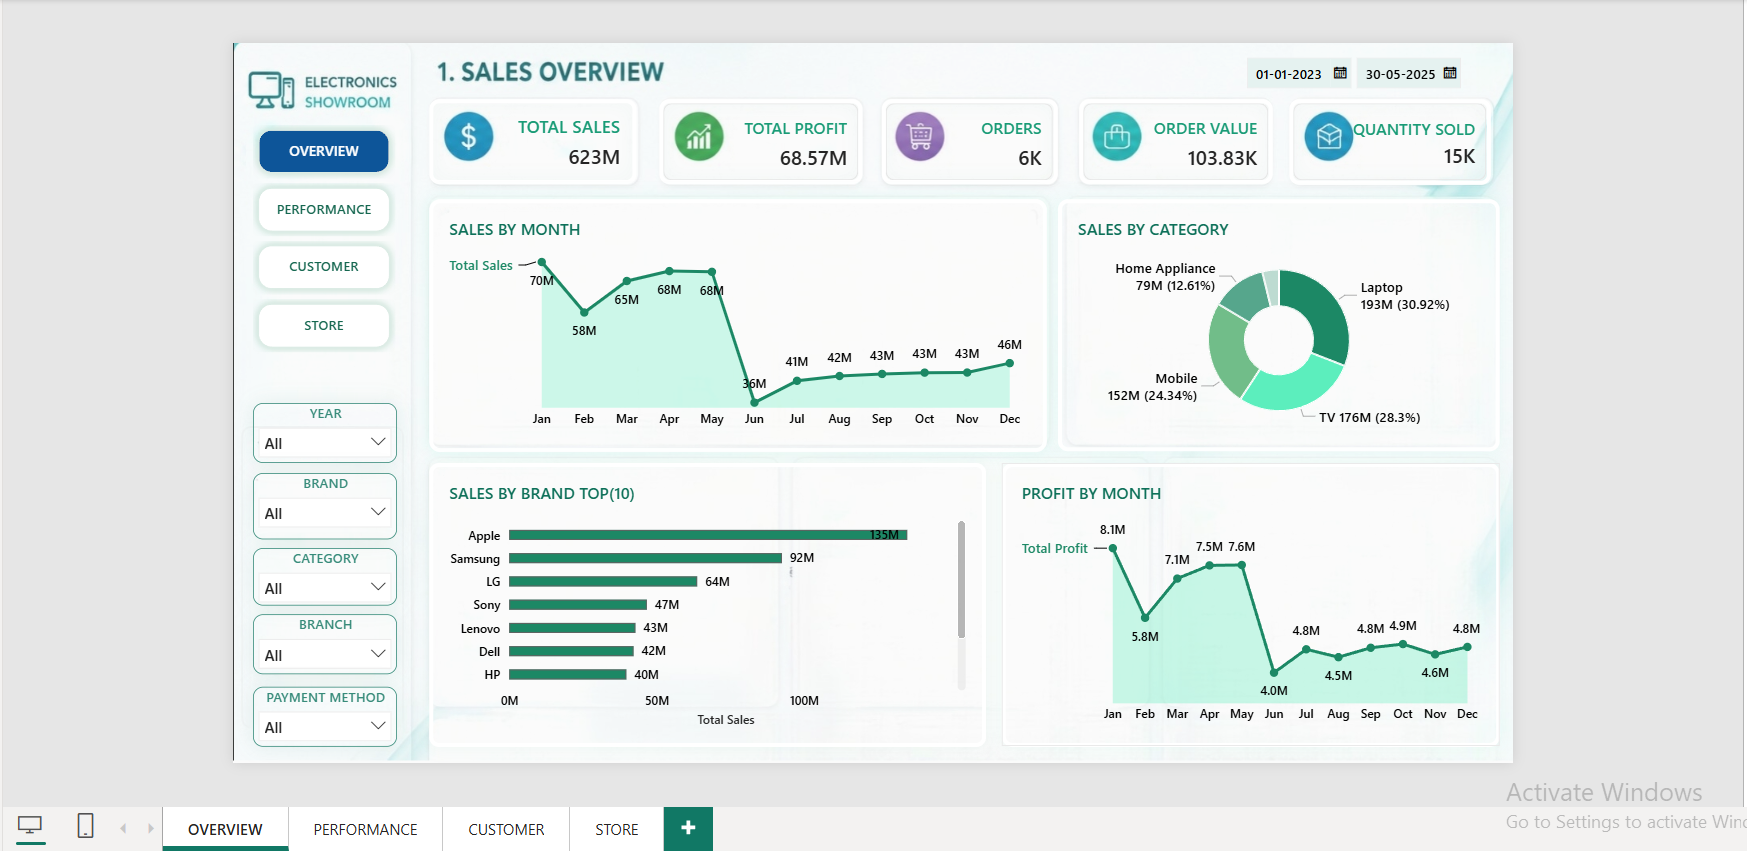

The page's visual inventory and layout, read from the dashboard file:
{"tool":"powerbi","page":{"name":"OVERVIEW","canvas":[1280,720],"ordinal":0},"visuals":[{"type":"cardVisual","fields":{"Data":["electronic.Total Sales"]},"box":[196.2,56.3,207.2,85.1],"z":0},{"type":"cardVisual","fields":{"Data":["electronic.Total Profit"]},"box":[426.8,56.3,203.1,85.1],"z":1000},{"type":"cardVisual","fields":{"Data":["electronic.Total Orders"]},"box":[649.1,56.3,175.6,85.1],"z":2000},{"type":"cardVisual","fields":{"Data":["electronic.Avg Order Value"]},"box":[846.7,56.3,193.5,85.1],"z":3000},{"type":"cardVisual","fields":{"Data":["electronic.Total Quantity Sold"]},"box":[1056.8,56.7,201.5,85.7],"z":4000},{"type":"lineChart","title":"SALES BY MONTH","fields":{"Y":["electronic.Total Sales"],"Category":["Date_Table.Month Name"]},"box":[196.2,156.2,617.5,252.5],"z":5000},{"type":"donutChart","title":"SALES BY CATEGORY","fields":{"Category":["electronic.Product_Category"],"Y":["electronic.Total Sales"]},"box":[824.8,156.3,441.9,252.4],"z":6000},{"type":"clusteredBarChart","title":"SALES BY BRAND TOP(10)","fields":{"Category":["electronic.Brand"],"Y":["electronic.Total Sales"]},"box":[195.7,419.8,556.4,284.4],"z":7000},{"type":"lineChart","title":"PROFIT BY MONTH","fields":{"Y":["electronic.Total Profit"],"Category":["Date_Table.Month Name"]},"box":[768.2,419.8,498.6,284.4],"z":8000},{"type":"slicer","title":"YEAR","fields":{"Values":["Date_Table.Year"]},"box":[19.7,359.5,144,60.3],"z":9000},{"type":"slicer","title":"BRANCH","fields":{"Values":["electronic.Store_Branch"]},"box":[19.7,571.2,144,60.3],"z":10000},{"type":"slicer","title":"BRAND","fields":{"Values":["electronic.Brand"]},"box":[19.7,429.6,144,66.5],"z":11000},{"type":"slicer","title":"PAYMENT METHOD","fields":{"Values":["electronic.Payment_Mode"]},"box":[19.7,643.8,144,60.3],"z":12000},{"type":"slicer","title":"CATEGORY","fields":{"Values":["electronic.Product_Category"]},"box":[19.7,504.7,144,57.9],"z":13000},{"type":"pageNavigator","box":[20,81.4,142.9,230],"z":13001},{"type":"slicer","fields":{"Values":["Date_Table.Date"]},"box":[1005.7,10,231.4,45.7],"z":13002}]}

Visuals, with their boxes on the page's 1280x720 design canvas (x1, y1, x2, y2). These are canvas units, not pixel positions in the 1747x851 screenshot, which may show the page scaled, cropped or inside an application window:
cardVisual - electronic.Total Sales: x1=196 y1=56 x2=403 y2=141
cardVisual - electronic.Total Profit: x1=427 y1=56 x2=630 y2=141
cardVisual - electronic.Total Orders: x1=649 y1=56 x2=825 y2=141
cardVisual - electronic.Avg Order Value: x1=847 y1=56 x2=1040 y2=141
cardVisual - electronic.Total Quantity Sold: x1=1057 y1=57 x2=1258 y2=142
"SALES BY MONTH" lineChart: x1=196 y1=156 x2=814 y2=409
"SALES BY CATEGORY" donutChart: x1=825 y1=156 x2=1267 y2=409
"SALES BY BRAND TOP(10)" clusteredBarChart: x1=196 y1=420 x2=752 y2=704
"PROFIT BY MONTH" lineChart: x1=768 y1=420 x2=1267 y2=704
"YEAR" slicer: x1=20 y1=360 x2=164 y2=420
"BRANCH" slicer: x1=20 y1=571 x2=164 y2=632
"BRAND" slicer: x1=20 y1=430 x2=164 y2=496
"PAYMENT METHOD" slicer: x1=20 y1=644 x2=164 y2=704
"CATEGORY" slicer: x1=20 y1=505 x2=164 y2=563
pageNavigator: x1=20 y1=81 x2=163 y2=311
slicer - Date_Table.Date: x1=1006 y1=10 x2=1237 y2=56
